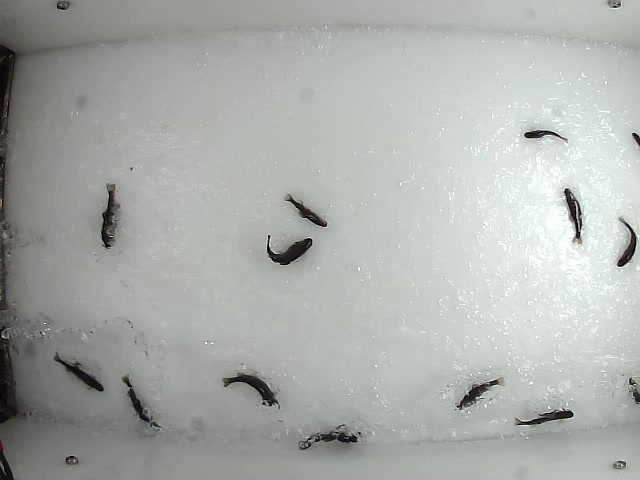fish: (120, 374, 162, 431), (52, 351, 106, 394), (222, 373, 282, 408), (457, 374, 509, 411), (295, 424, 362, 452), (96, 181, 121, 251), (281, 192, 328, 228), (263, 234, 314, 266), (562, 186, 585, 246), (512, 407, 578, 427), (523, 129, 569, 143)
